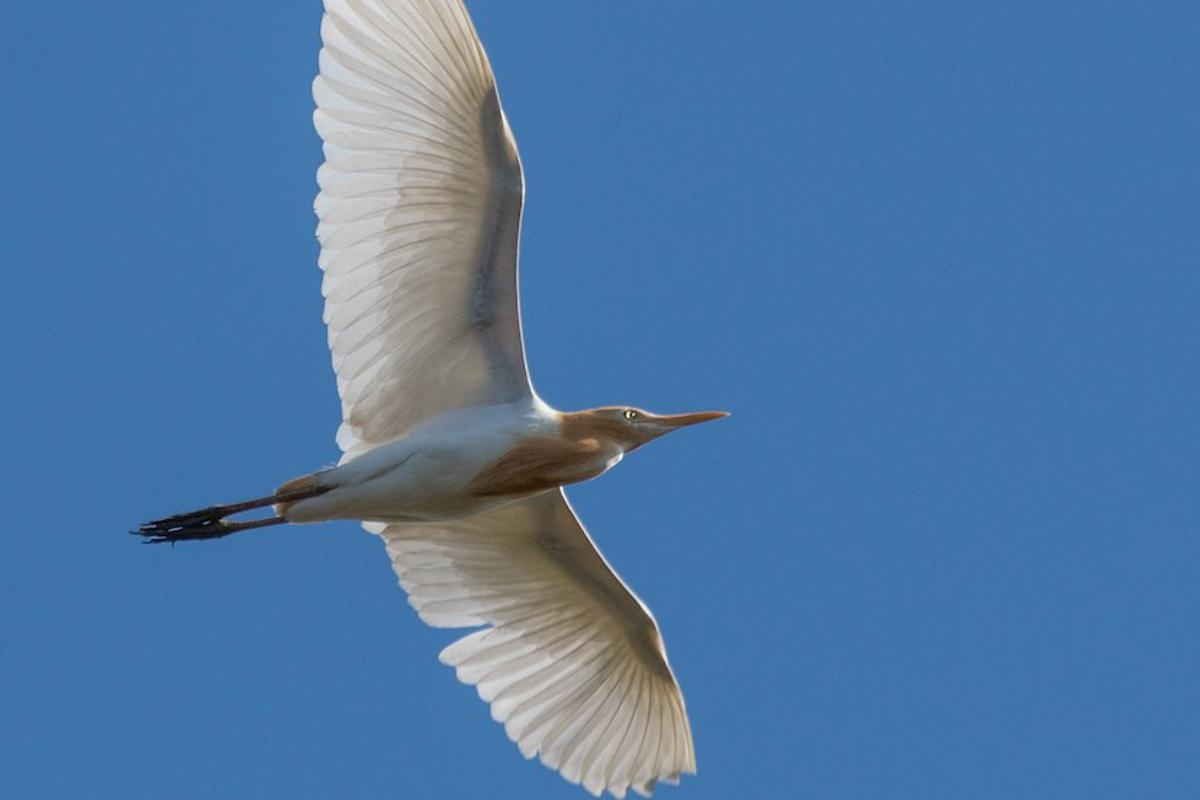egret: (148, 22, 758, 796)
